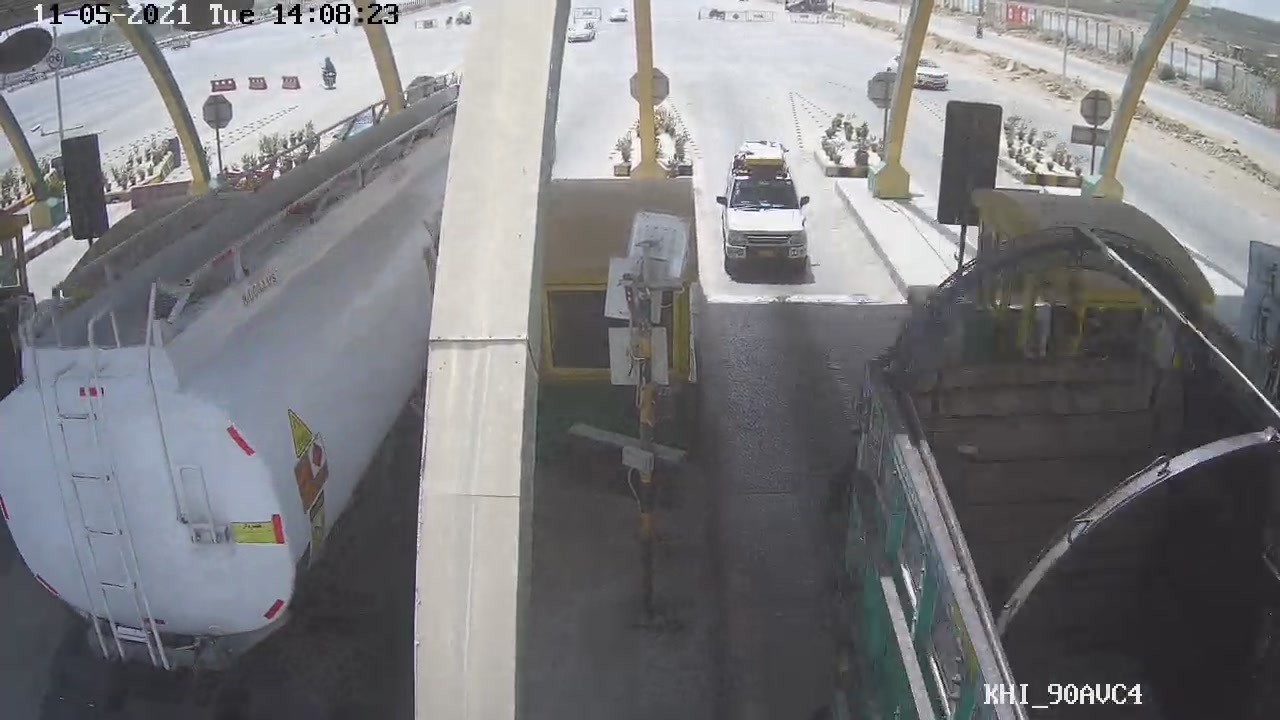F1: (711, 138, 817, 278)
